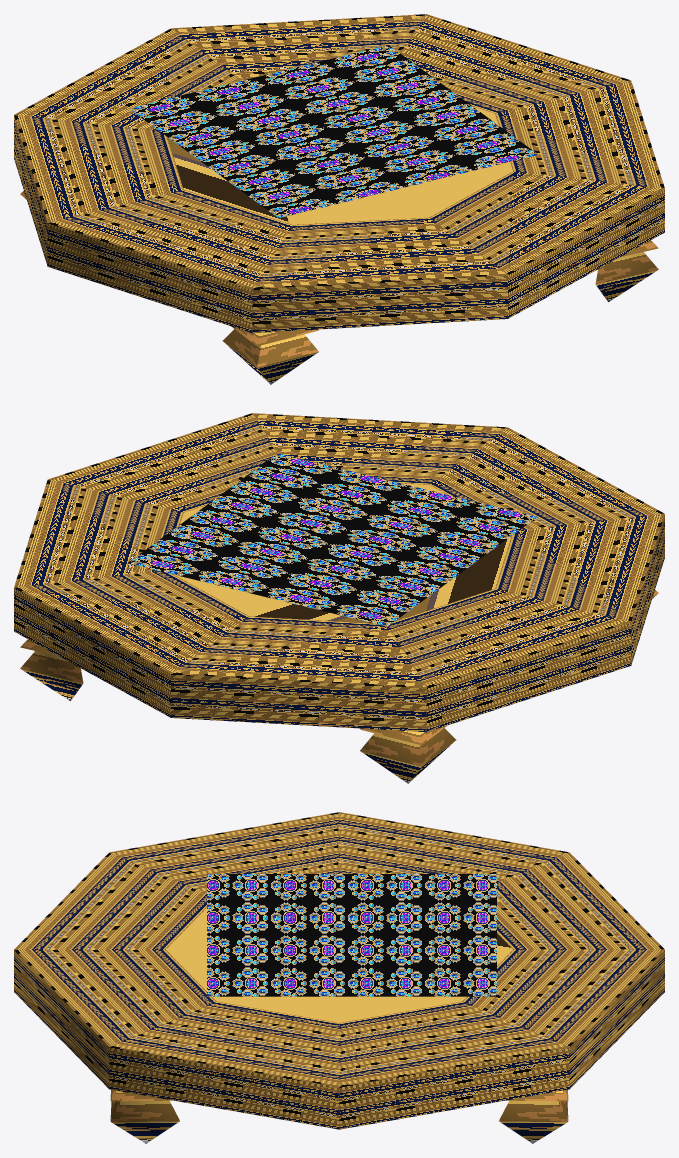
3 views of the same model, one above another, from view 1: azimuth 30°, elevation 25°; view 2: azimuth 150°, elevation 25°; view 3: azimuth 270°, elevation 25° (orthographic). The views are drawn at different scales.
Visible parts, largest first — view 1: 3710kg_tr_ta1; view 2: 3710kg_tr_ta1; view 3: 3710kg_tr_ta1.
Part boxes in pixels (bbox=[...]): 3710kg_tr_ta1: bbox=[14, 14, 664, 384]; 3710kg_tr_ta1: bbox=[14, 413, 664, 783]; 3710kg_tr_ta1: bbox=[14, 812, 664, 1143].
Size of the model in its own units: 1.99 by 0.4363 by 1.99.
2 materials, 2 textured.
